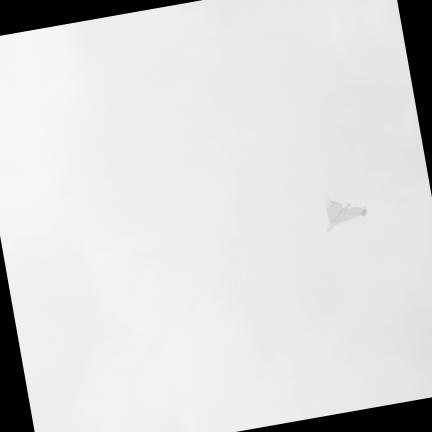Shahed: (326, 197, 367, 229)
